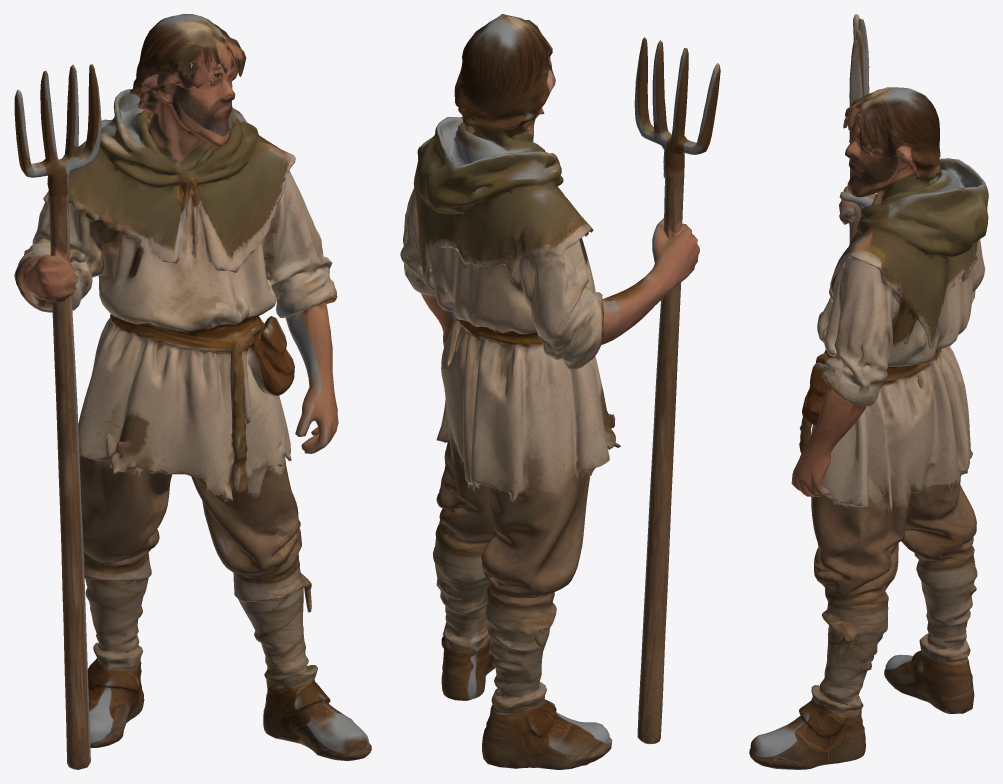
The model's file is villager.glb.
The picture shows the model from 3 angles, left to right: view 1: azimuth 30°, elevation 25°; view 2: azimuth 150°, elevation 25°; view 3: azimuth 270°, elevation 25°; orthographic projection. The views are drawn at different scales.
Visible parts, largest first — view 1: tripo_node_908f9284-d21e-4828-9a9b-1c1f3d6c57cd; view 2: tripo_node_908f9284-d21e-4828-9a9b-1c1f3d6c57cd; view 3: tripo_node_908f9284-d21e-4828-9a9b-1c1f3d6c57cd.
Boxes of the visible parts, <box> form: tripo_node_908f9284-d21e-4828-9a9b-1c1f3d6c57cd: <box>14,14,371,769</box>; tripo_node_908f9284-d21e-4828-9a9b-1c1f3d6c57cd: <box>400,14,720,769</box>; tripo_node_908f9284-d21e-4828-9a9b-1c1f3d6c57cd: <box>749,14,988,769</box>.
Size of the model in its own units: 0.4651 by 1 by 0.3423.
Materials: 1 (1 with a texture image).
